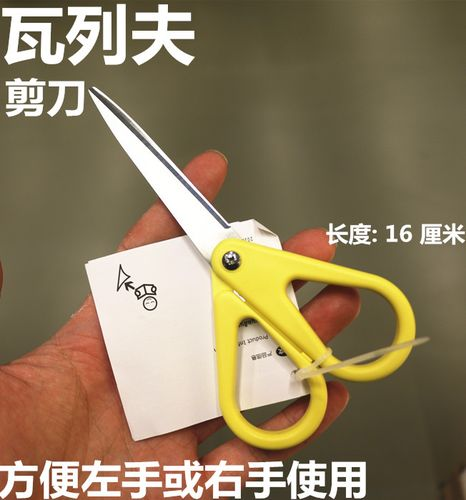scissor: (88, 85, 417, 453)
